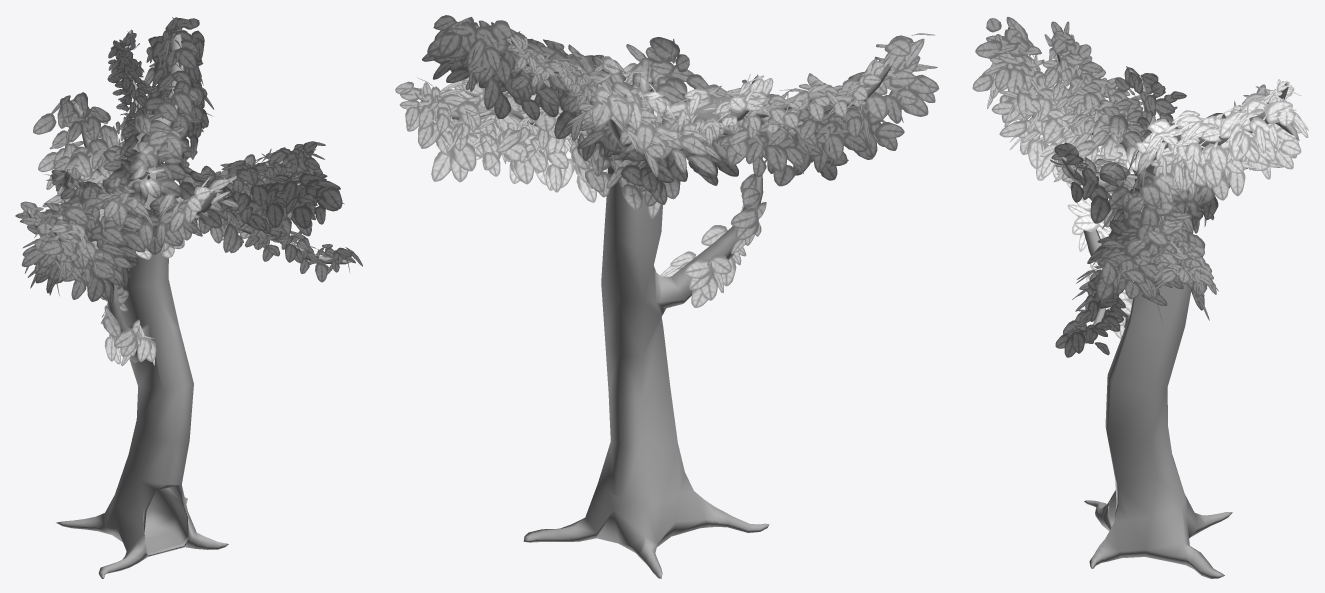
Rendered from Tree Bed 2 Low Poly.fbx.
3 renders of one model, left to right at view 1: azimuth 30°, elevation 25°; view 2: azimuth 150°, elevation 25°; view 3: azimuth 270°, elevation 25°, orthographic. The views are drawn at different scales.
Parts seen in each view (by area): view 1: Leaves, Tree_Bed_2_Low_Poly1; view 2: Leaves, Tree_Bed_2_Low_Poly1; view 3: Leaves, Tree_Bed_2_Low_Poly1.
Boxes of the visible parts, x1,y1,x2,y2 form: Leaves: [15, 17, 362, 365]; Tree_Bed_2_Low_Poly1: [28, 29, 350, 578]; Leaves: [395, 15, 939, 307]; Tree_Bed_2_Low_Poly1: [421, 25, 892, 578]; Leaves: [972, 17, 1308, 357]; Tree_Bed_2_Low_Poly1: [1008, 27, 1299, 578].
Size of the model in its own units: 15.77 by 18.06 by 11.32.
